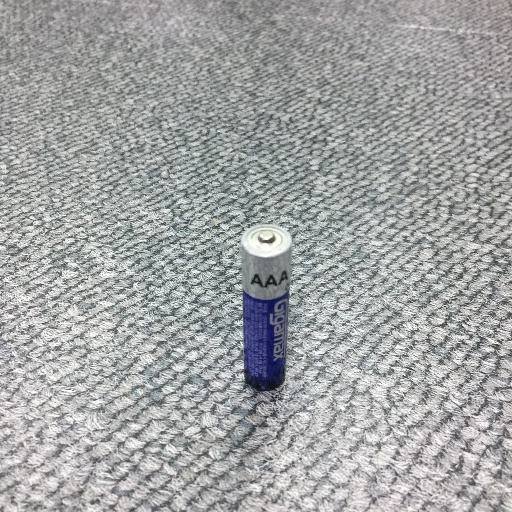Battery_0: (233, 220, 301, 400)
